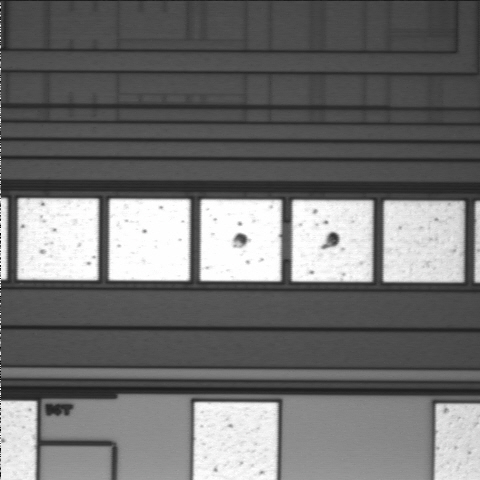pad: (200, 199, 282, 281), (18, 198, 99, 280), (109, 199, 190, 281), (292, 200, 373, 282), (383, 201, 464, 282)
